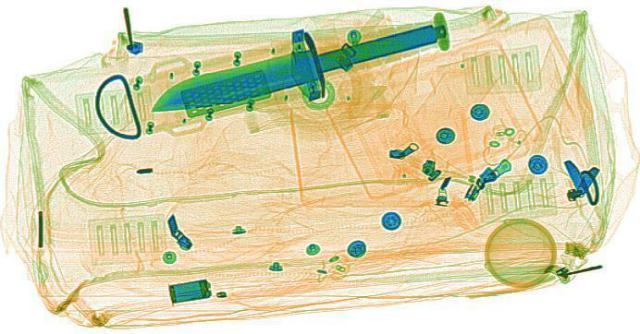Knife: (110, 0, 478, 140)
